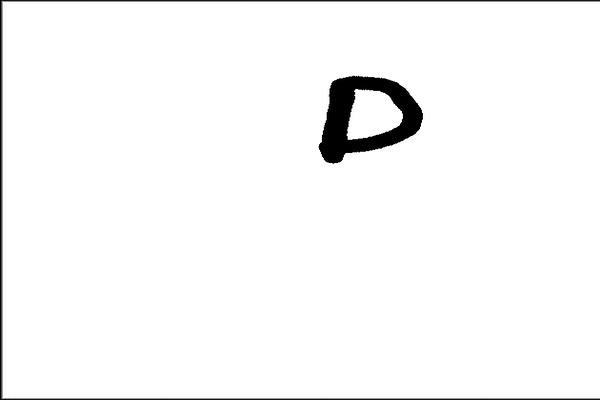D: (313, 67, 426, 169)
